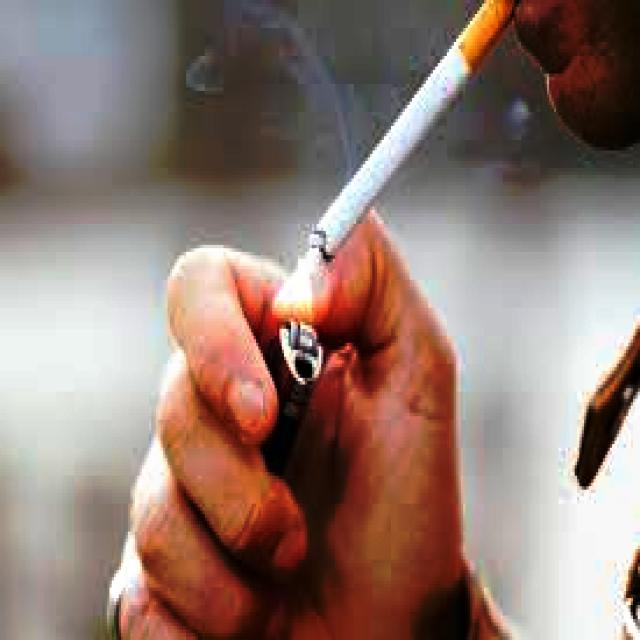api: (281, 239, 325, 326)
